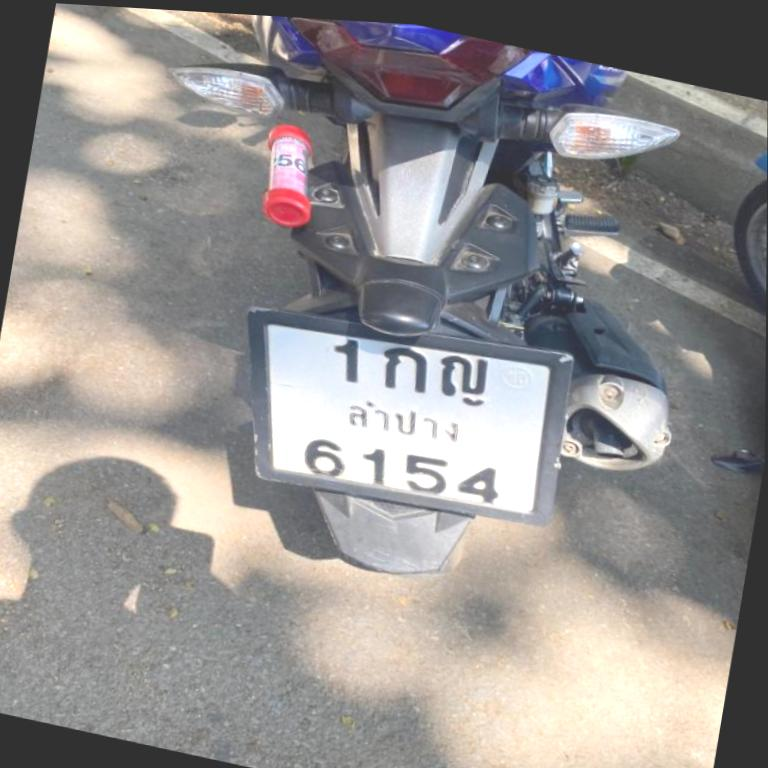license plate: (248, 309, 570, 522)
